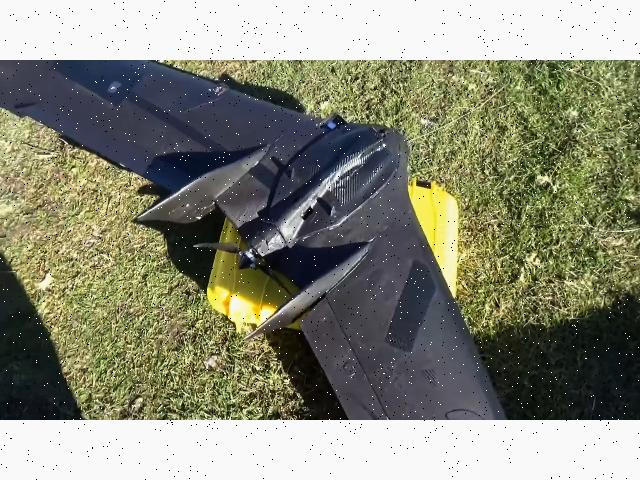Anti-Drone: (1, 60, 527, 420)
